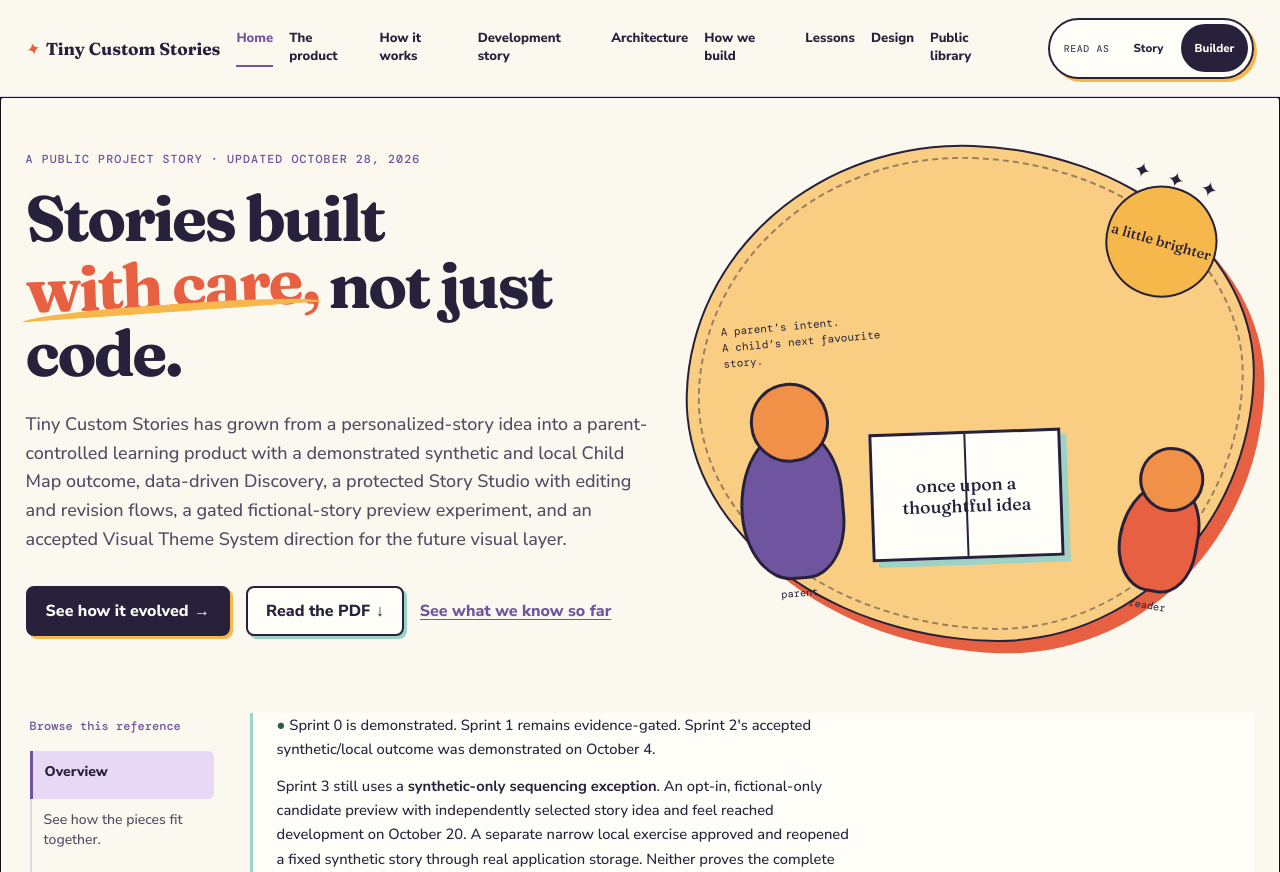
Test: project story site › shows integrated Sprint 3 authoring without claiming the complete Studio outcome
Click the link "Development story" at (519, 47), box [478,29,561,65]
(page scrolled)
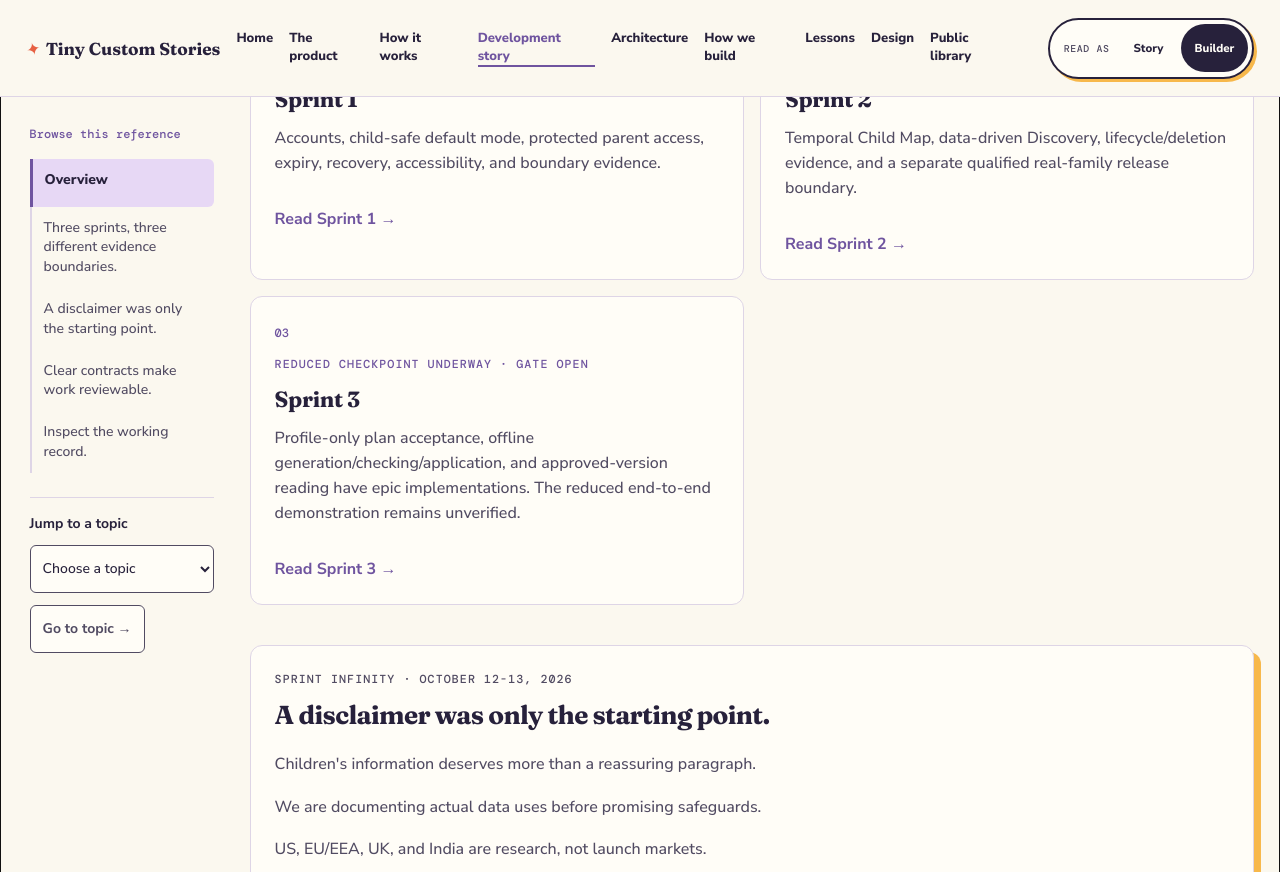
Click the link named "Read Sprint 3" at (497, 450), box [250,296,744,605]
(page scrolled)
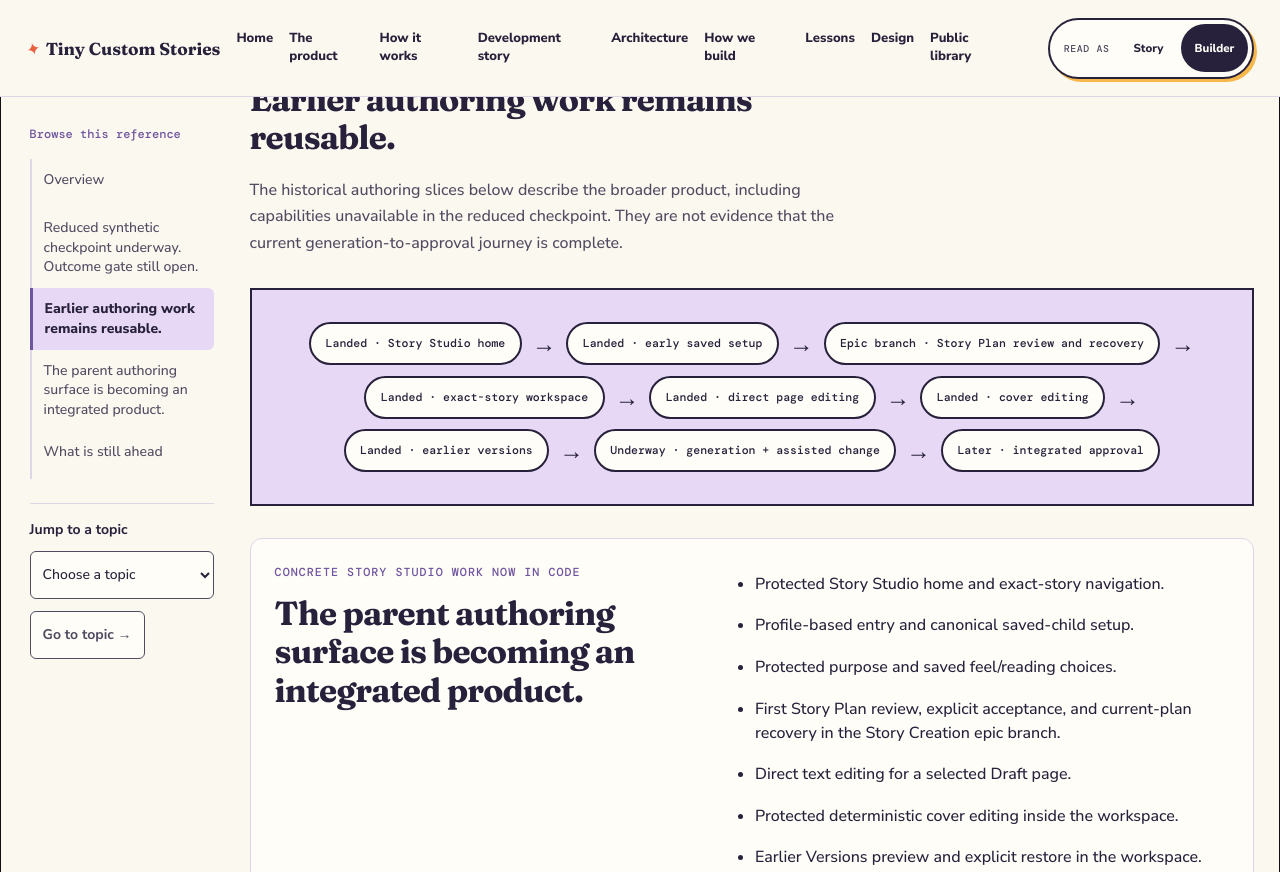
Check: the text "Landed · Story Studio home" is shown, box [309,322,522,365]
Check: the text "Landed · direct page editing" is shown, box [649,376,876,419]
Check: the text "Landed · earlier versions" is shown, box [344,429,549,472]
